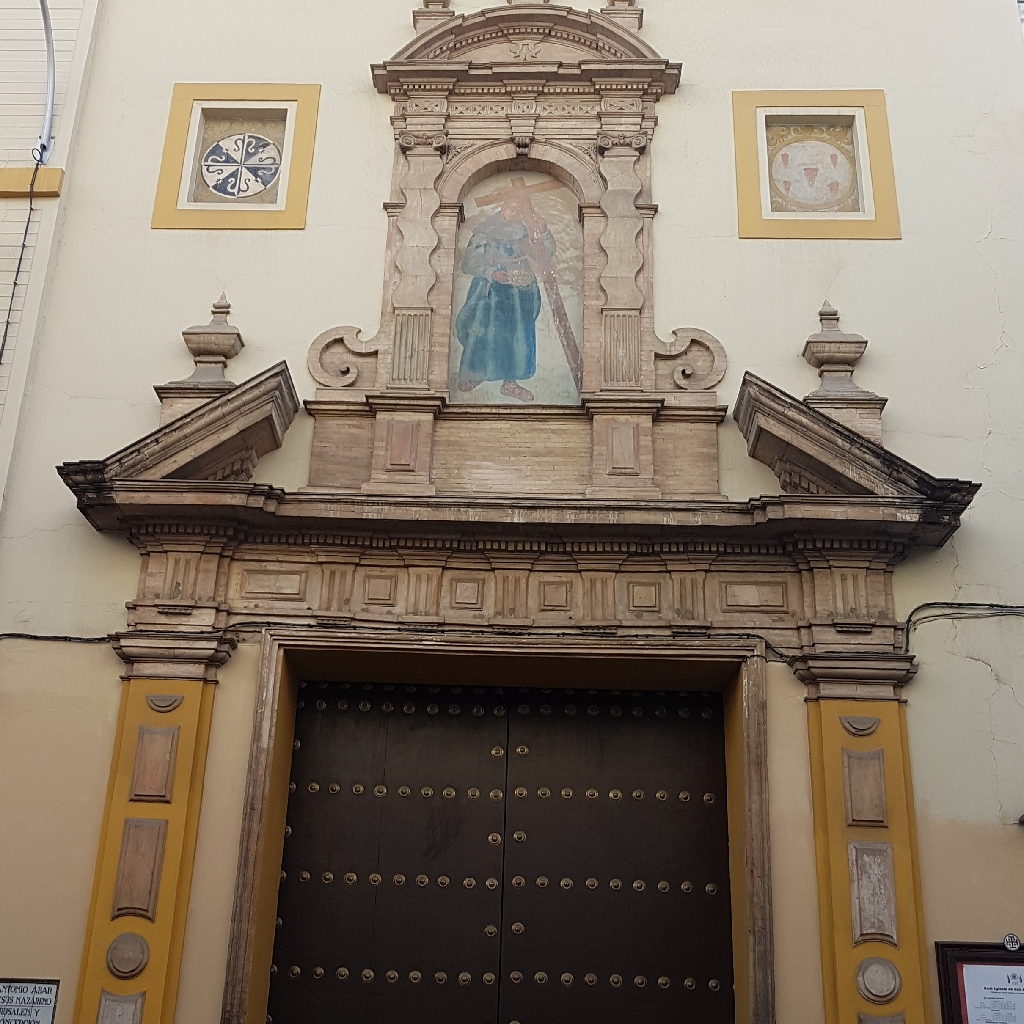arco-medio-punto: (447, 148, 594, 240)
fronton-curvo: (367, 1, 679, 85)
fronton-partido: (67, 355, 964, 535)
vano-adintelado: (218, 618, 777, 1024)
